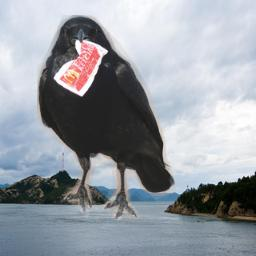Crow: (37, 15, 176, 220)
